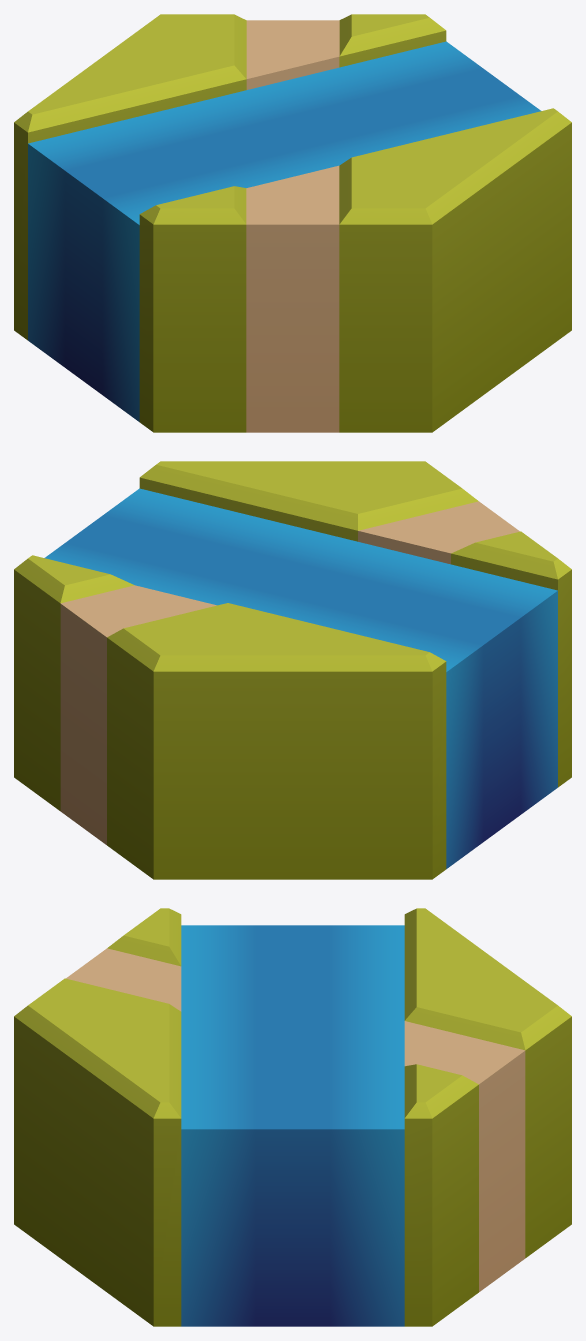
Rendered from hex_river_crossing_B.glb.
3 views of the same model, one above another, from view 1: azimuth 30°, elevation 25°; view 2: azimuth 150°, elevation 25°; view 3: azimuth 270°, elevation 25° (orthographic).
Visible parts, largest first — view 1: hex_river_crossing_B; view 2: hex_river_crossing_B; view 3: hex_river_crossing_B.
Part boxes in pixels (box(x1,y1,x2,y2)): hex_river_crossing_B: box(14, 14, 571, 432); hex_river_crossing_B: box(14, 461, 571, 879); hex_river_crossing_B: box(14, 908, 571, 1326).
Size of the model in its own units: 2 by 1 by 2.31.
1 material, 1 textured.
